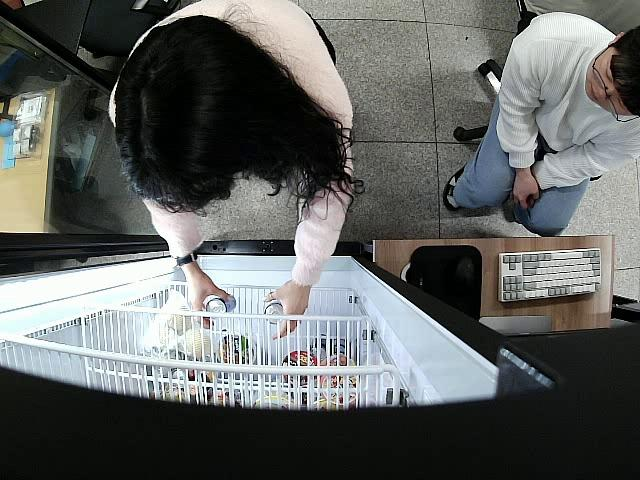00_hand: (263, 281, 309, 341), (187, 278, 230, 328), (514, 171, 539, 208)
16_hot6: (207, 295, 234, 314), (264, 304, 284, 326)
